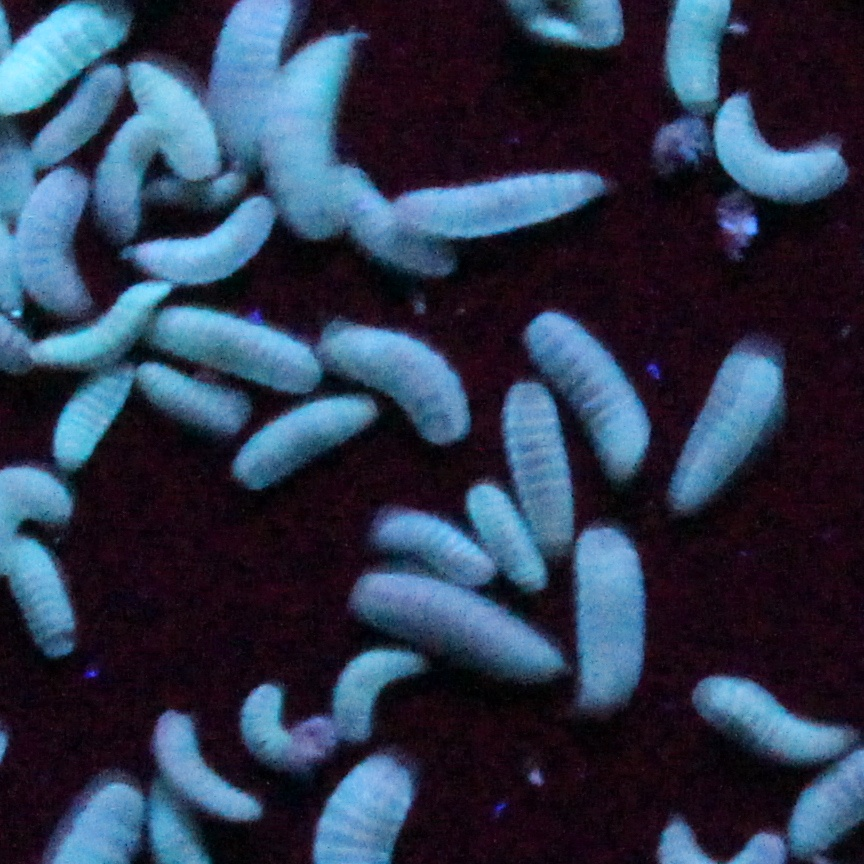larve: (519, 308, 669, 485), (676, 328, 805, 505), (360, 567, 565, 662), (271, 28, 360, 242), (319, 328, 478, 444), (565, 526, 656, 724), (685, 664, 862, 762), (715, 89, 856, 208), (328, 155, 449, 292), (153, 303, 326, 394), (137, 703, 267, 824), (399, 174, 606, 239), (12, 160, 96, 317), (119, 62, 224, 185), (126, 203, 267, 292), (10, 74, 133, 174), (24, 292, 167, 374), (233, 401, 360, 492), (3, 535, 83, 658), (465, 469, 546, 589), (374, 508, 496, 585), (333, 649, 424, 749), (242, 676, 337, 762), (56, 364, 126, 471), (149, 360, 251, 430), (96, 99, 144, 237)
